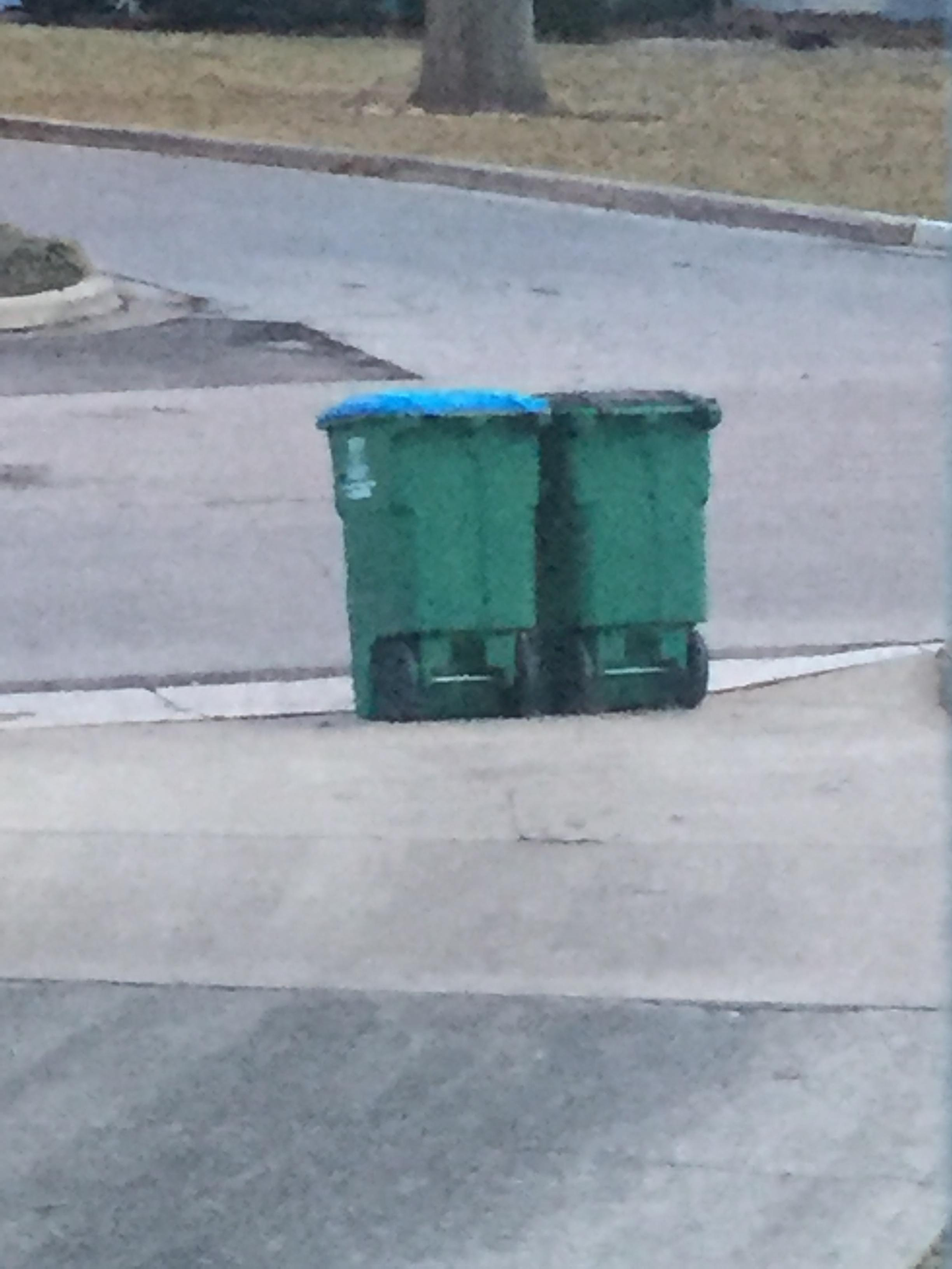TrashBin: (312, 382, 557, 728), (539, 385, 752, 720)
